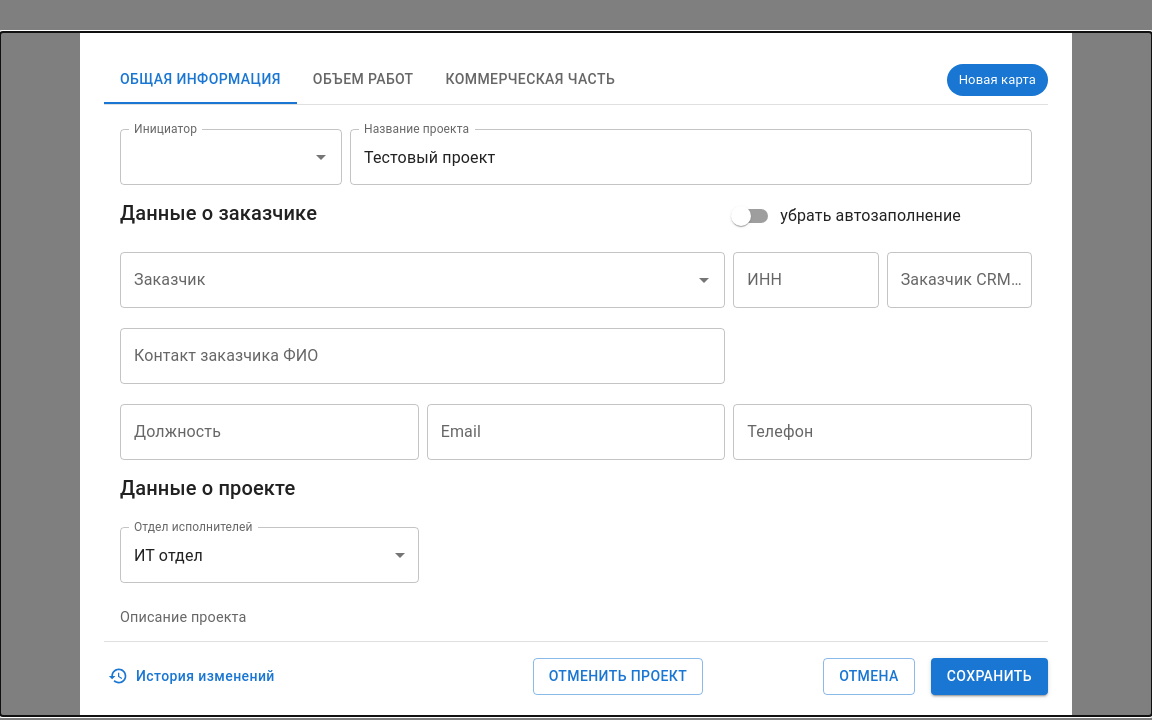
Test: ModalForm › resets system requirements switch when the table has no filled rows
Expected: the field showing "Тестовый проект" is shown, x1=350 y1=129 x2=1032 y2=185
Click the tab "Объем работ": click(363, 80) x1=297 y1=56 x2=430 y2=104
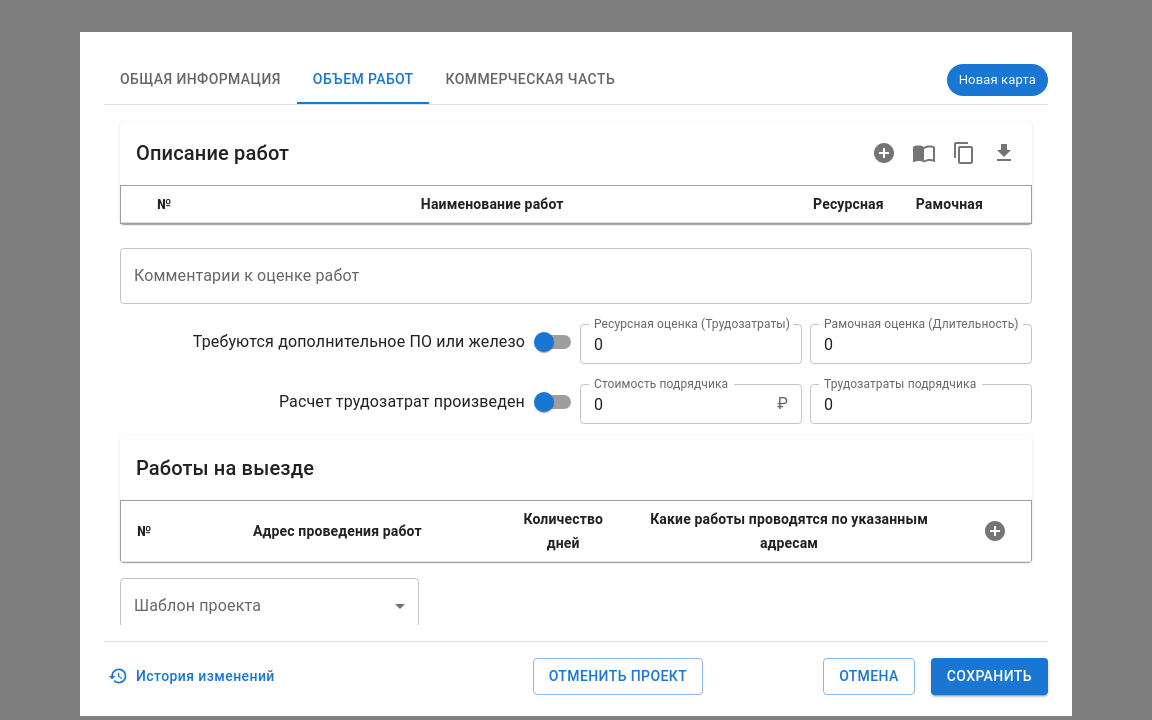
Click the checkbox labelled "Требуются дополнительное ПО или железо": click(382, 342) x1=193 y1=332 x2=571 y2=352
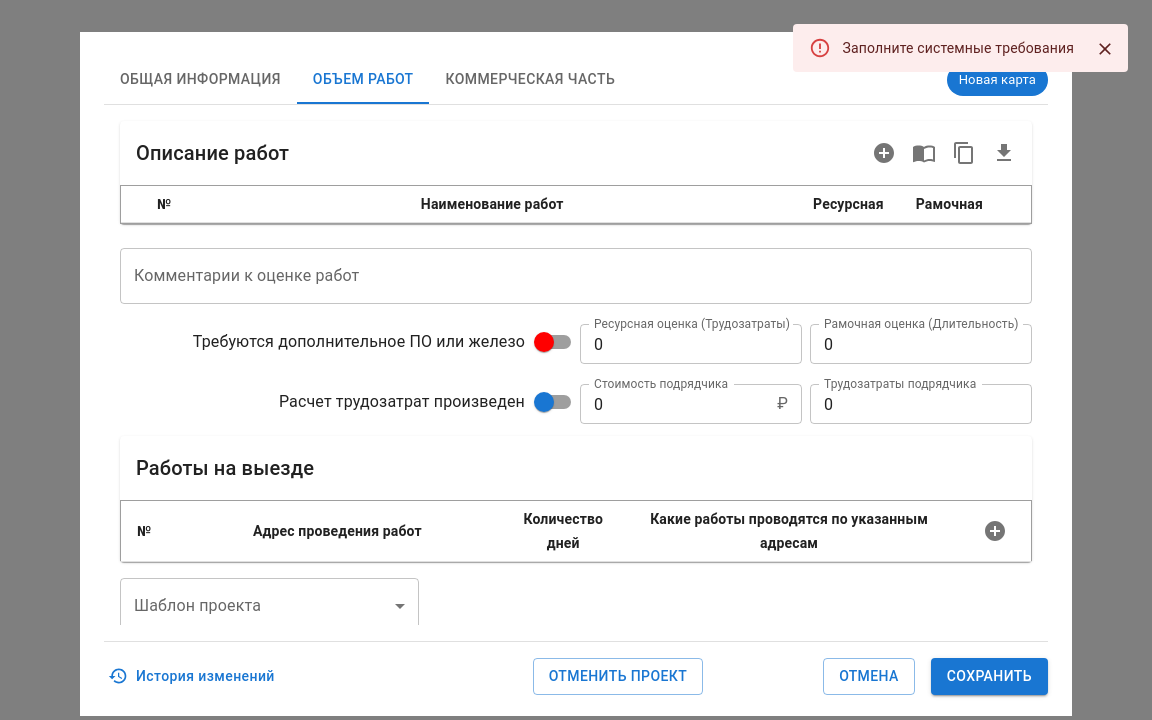
Now the checkbox labelled "Требуются дополнительное ПО или железо" is not checked, box x1=193 y1=332 x2=571 y2=352
Now the text "Заполните системные требования" is shown, box x1=842 y1=40 x2=1074 y2=56
